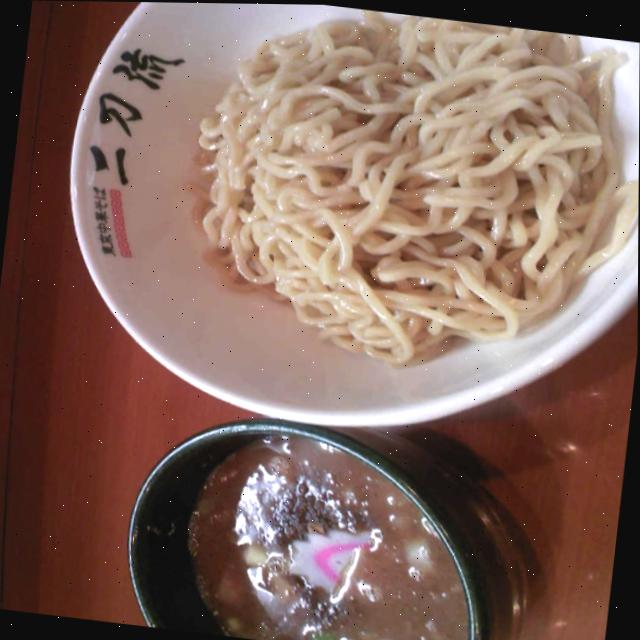面条主食: (135, 2, 633, 640)
